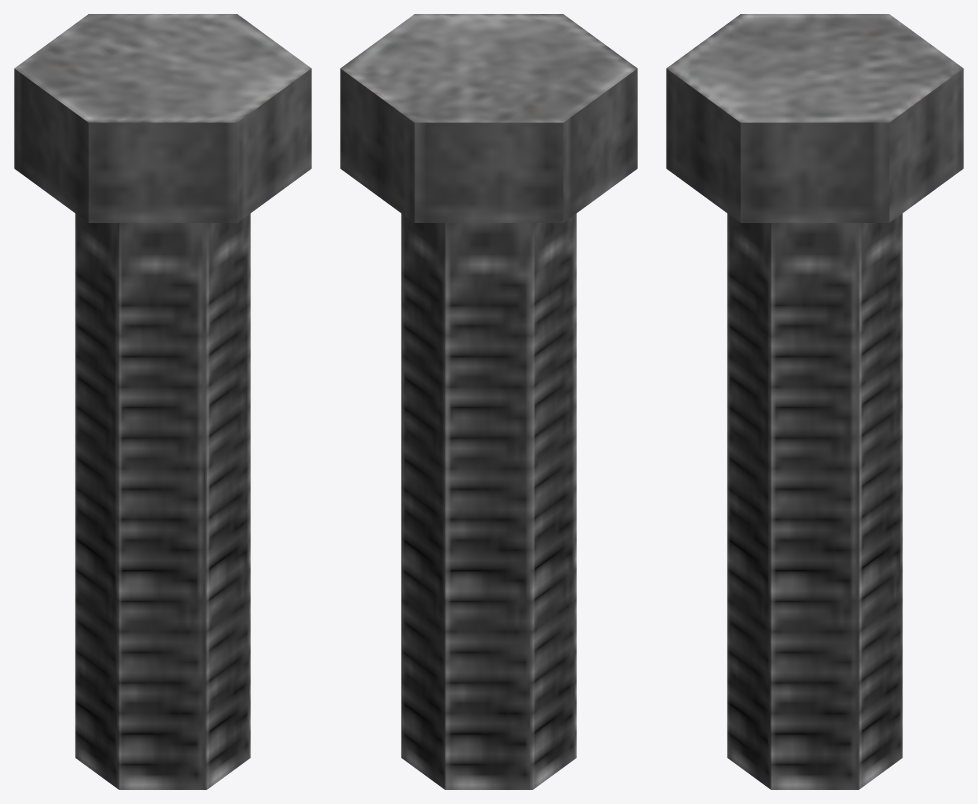
The model's file is Bolt.fbx.
3 renders of one model, left to right at view 1: azimuth 30°, elevation 25°; view 2: azimuth 150°, elevation 25°; view 3: azimuth 270°, elevation 25°, orthographic.
Parts seen in each view (by area): view 1: Cylinder.001; view 2: Cylinder.001; view 3: Cylinder.001.
Part boxes in pixels (bbox=[...]): Cylinder.001: bbox=[14, 14, 311, 789]; Cylinder.001: bbox=[340, 14, 637, 789]; Cylinder.001: bbox=[666, 14, 963, 789].
Size of the model in its own units: 173 by 512 by 200.
1 material, 1 textured.
